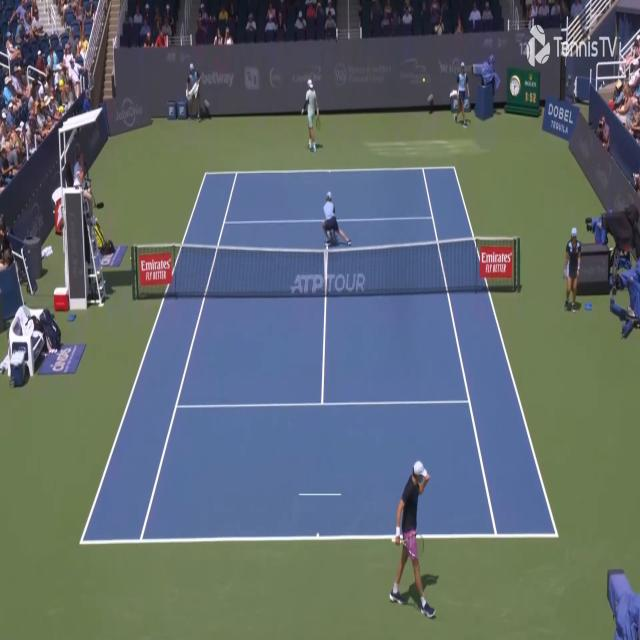tennis-player: (388, 456, 437, 624), (301, 77, 320, 155)
